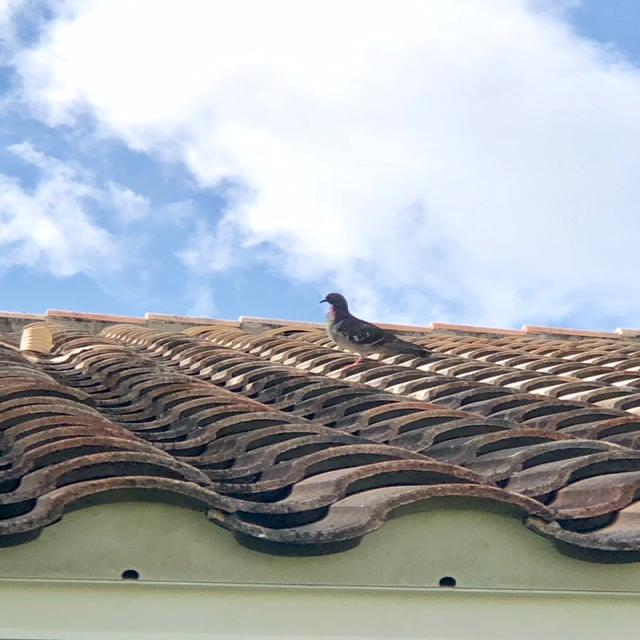bird: (318, 292, 433, 364)
